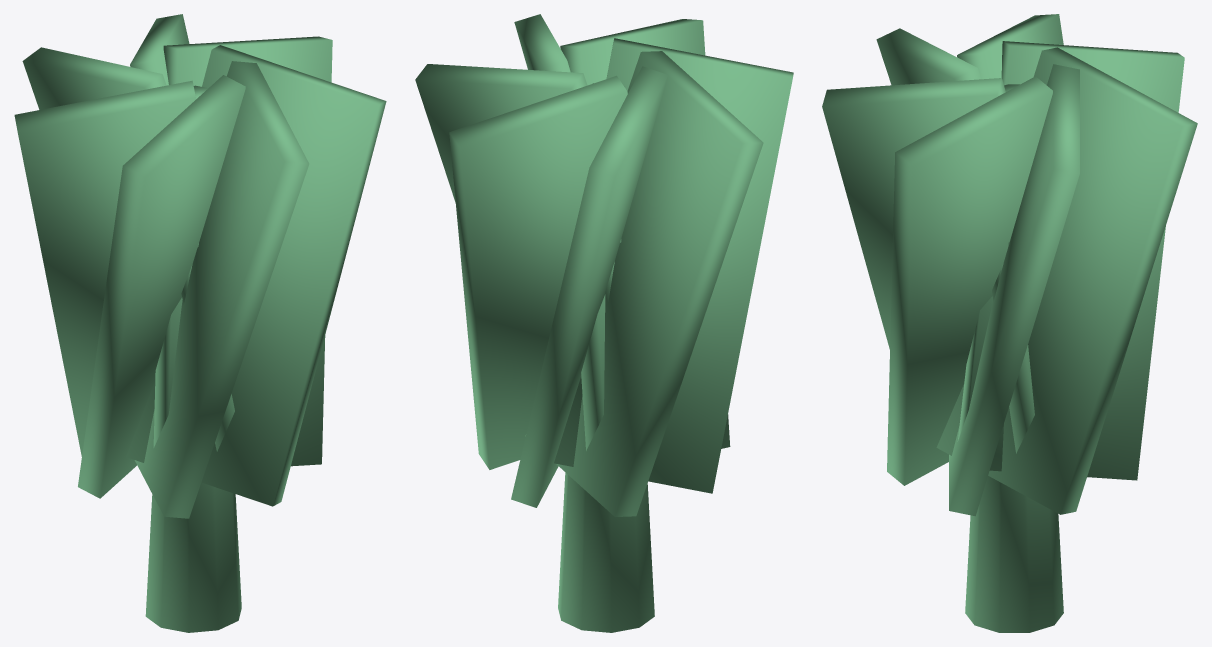
File: SM_AF_Foliage_Fern.glb
The picture shows the model from 3 angles, left to right: view 1: azimuth 30°, elevation 25°; view 2: azimuth 150°, elevation 25°; view 3: azimuth 270°, elevation 25°; orthographic projection.
Visible parts, largest first — view 1: SM_AF_Foliage_Fern; view 2: SM_AF_Foliage_Fern; view 3: SM_AF_Foliage_Fern.
Part boxes in pixels (x1,y1,x2,y2): SM_AF_Foliage_Fern: [14, 14, 386, 632]; SM_AF_Foliage_Fern: [415, 14, 793, 632]; SM_AF_Foliage_Fern: [822, 14, 1197, 632].
Bounding box in the file's own units: 0.4954 × 0.8 × 0.4948.
